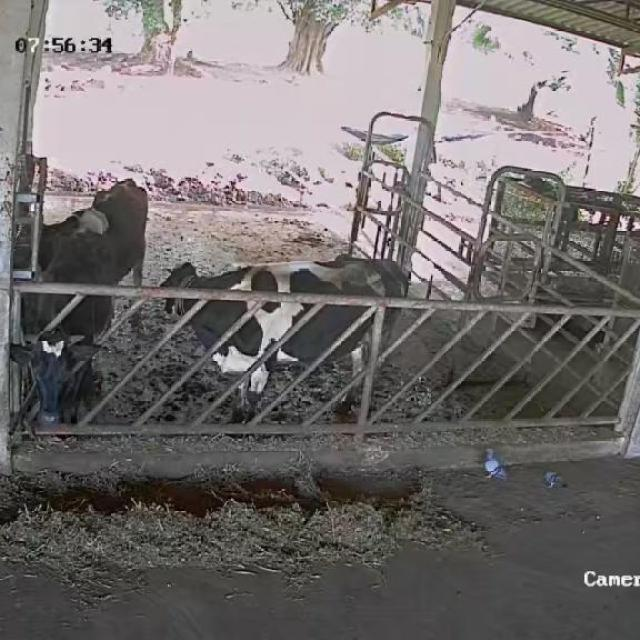feeding: (9, 218, 115, 440)
standing: (162, 250, 408, 420), (9, 180, 148, 312)
